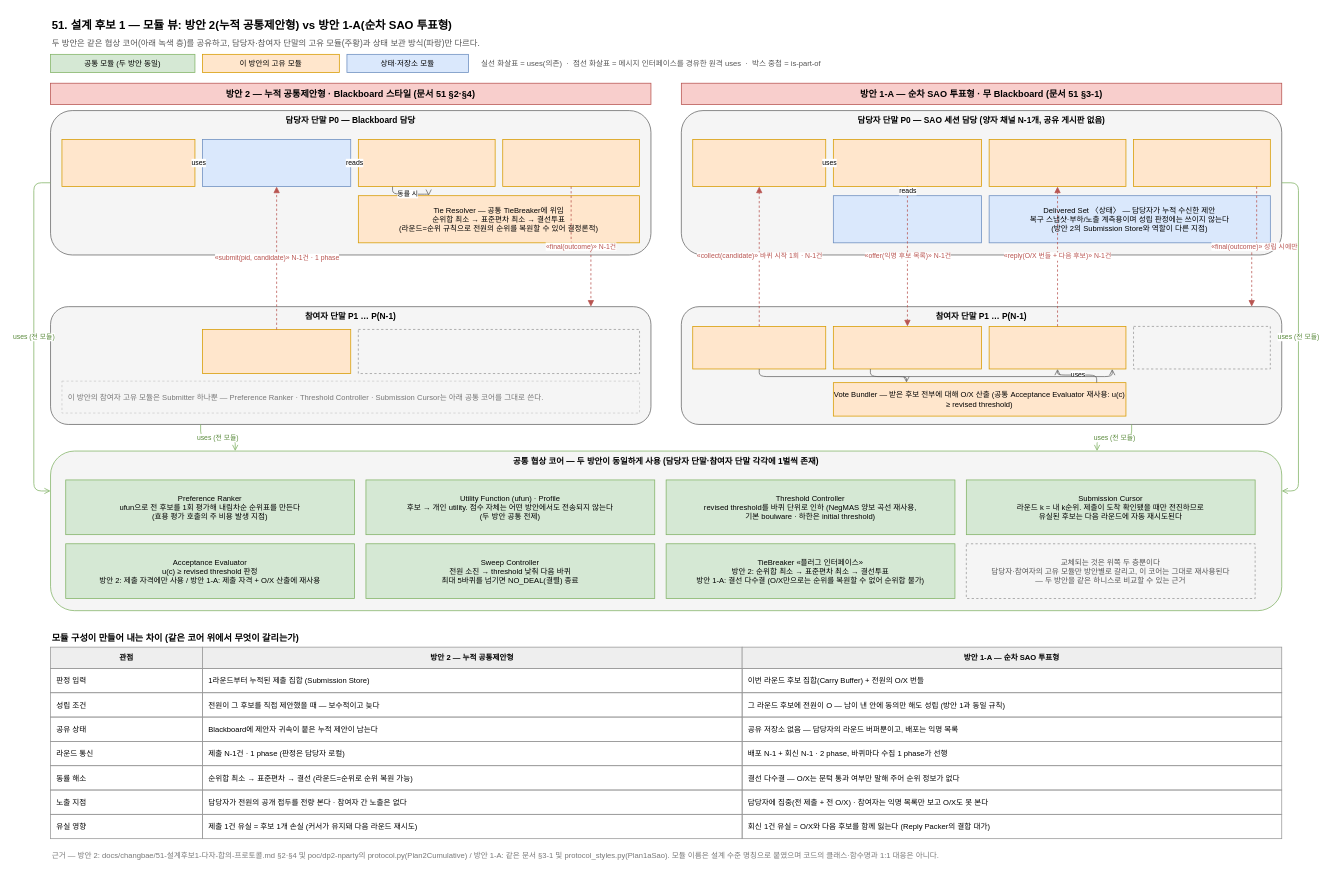
This 1332x889 diagram has some shape labels left out. Here are the shapes that lost their labels. From the top down, the centre of each, then its label:
At (128,163): "Round Controller 라운드 개시·마감, 바퀴(sweep) 진행".
At (276,163): "Submission Store 〈상태〉 참여자 → 제안 누적 집합 (제안자 귀속 있음 · 라운드 넘어 유지)".
At (426,163): "Unanimity Judge 누적 집합의 전원 교집합 = 만장일치 성립".
At (571,163): "Final Notifier 성립·결렬 통지 (N-1건 · 1회)".
At (759,163): "Sweep Collector 바퀴 시작 1회 수집 (N-1건 · 1 phase)".
At (907,163): "Anonymizing Offer Composer 모인 후보 → 제안자 귀속을 제거한 익명 후보 목록 (= SAO offer)".
At (1057,163): "Vote Aggregator O/X 번들 집계 → 전원 O 후보 판정 동률 시 공통 TieBreaker 호출".
At (1201,163): "Final Notifier 성립 시에만 통지 (미성립 공지 없음)".
At (907,219): "Carry Buffer 〈상태〉 이번 라운드 후보 집합 — 라운드 단위로 휘발".
At (276,351): "Submitter 순위 커서가 준 후보 1개를 제출 (제출이 곧 수락 의사)".
At (499,351): "투표 모듈·수신 모듈이 없다 제출 자격 규칙이 수락 의사를 보장 → O/X 교환 불필요 라운드 결과 수신 경로도 없음 — 최종 통지만 받는다".
At (759,347): "Counter-Offer Composer 다음 순위 후보 1개 (공통 Submission Cursor 사용)".
At (907,347): "Offer Receiver 익명 후보 목록 수신 (누가 냈는지는 알 수 없음)".
At (1057,347): "Reply Packer O/X 번들 + 다음 후보를 한 메시지로 결합".
At (1201,347): "SAO 메시지 의미론 accept/reject + counter-offer (결합 유실 위험 지점)".
